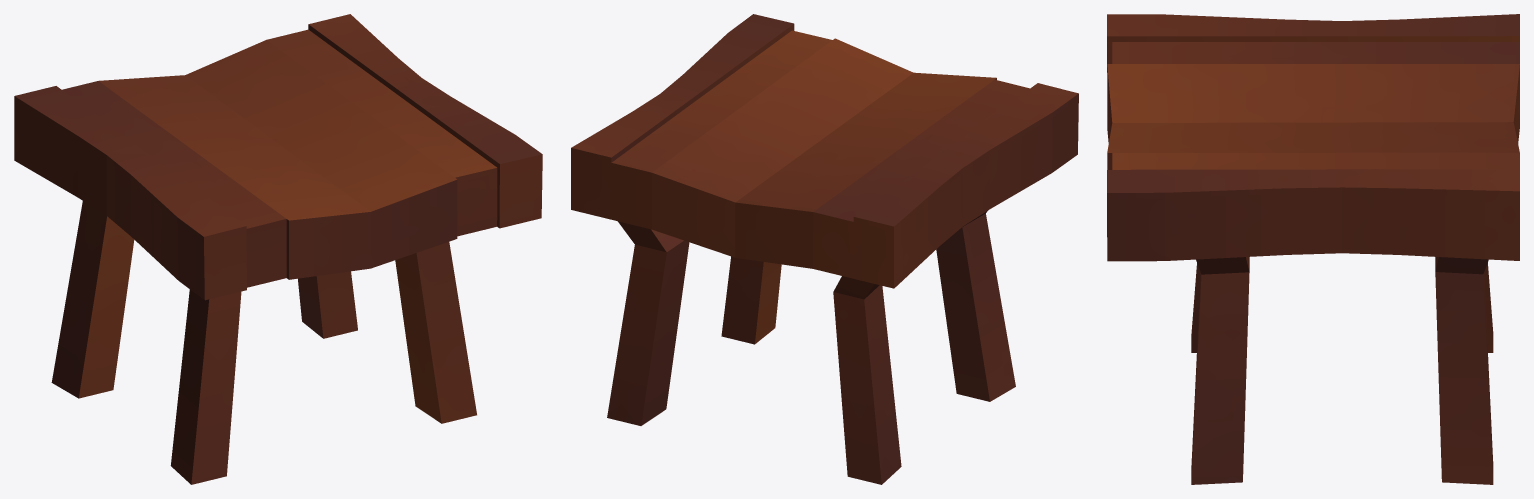
The model's file is Prop_Chair_Stool.fbx.
The picture shows the model from 3 angles, left to right: view 1: azimuth 30°, elevation 25°; view 2: azimuth 150°, elevation 25°; view 3: azimuth 270°, elevation 25°; orthographic projection. The views are drawn at different scales.
Parts seen in each view (by area): view 1: Stool; view 2: Stool; view 3: Stool.
Part boxes in pixels (box(x1,y1,x2,y2)): Stool: box(14, 14, 542, 484); Stool: box(571, 14, 1078, 484); Stool: box(1107, 14, 1519, 484).
Bounding box in the file's own units: 38.23 × 30.61 × 37.33.
